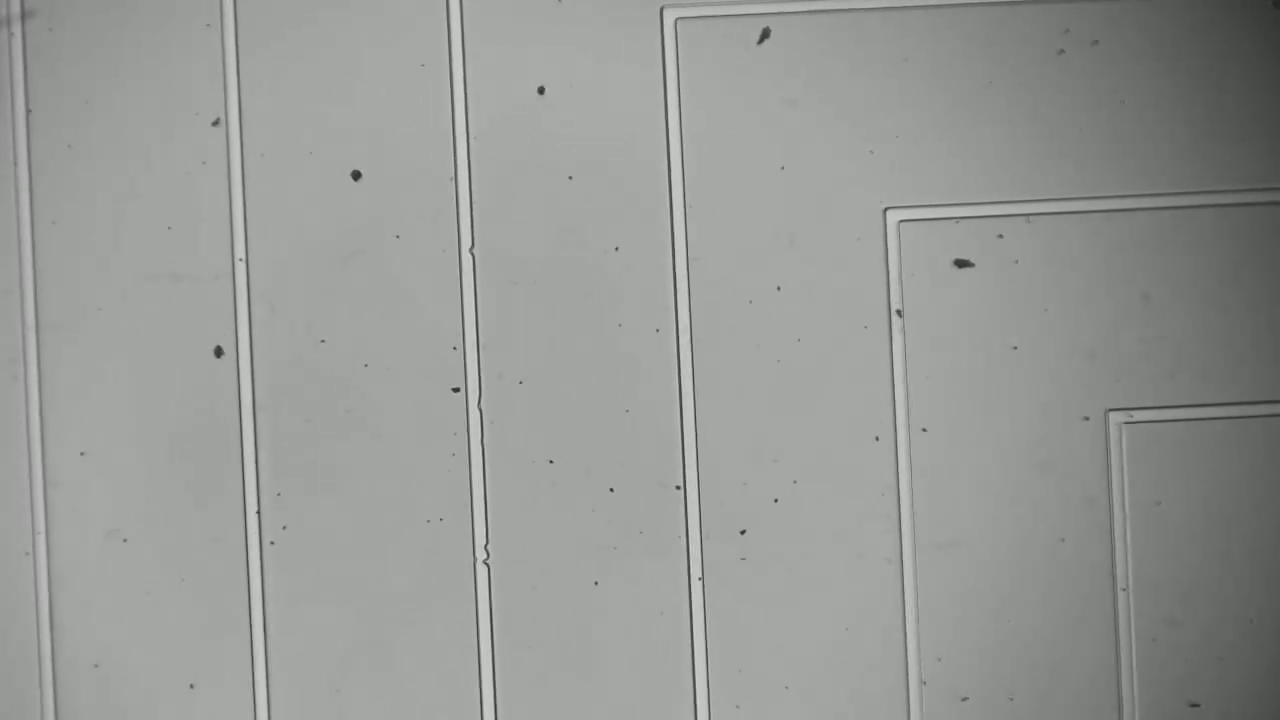edge_bite: (463, 538, 498, 569), (458, 387, 490, 418), (451, 234, 483, 262)
stains_enbedded: (883, 297, 910, 322)
